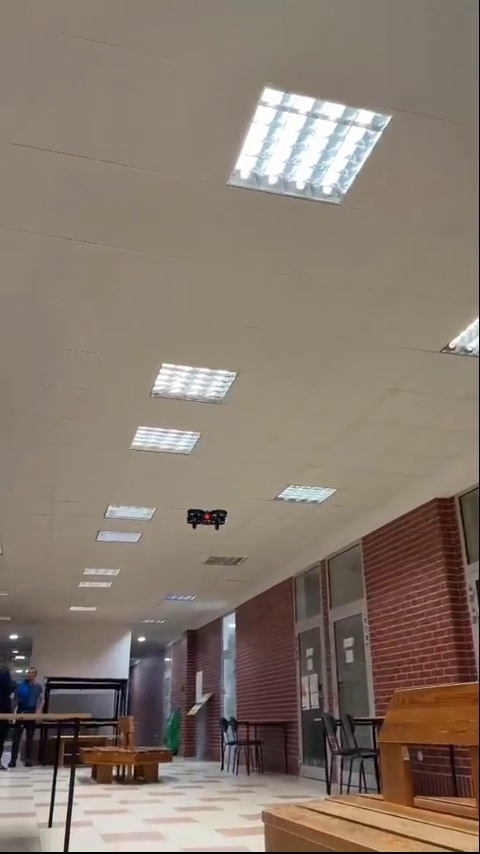drone: (186, 512, 231, 531)
no vest: (13, 666, 38, 710)
